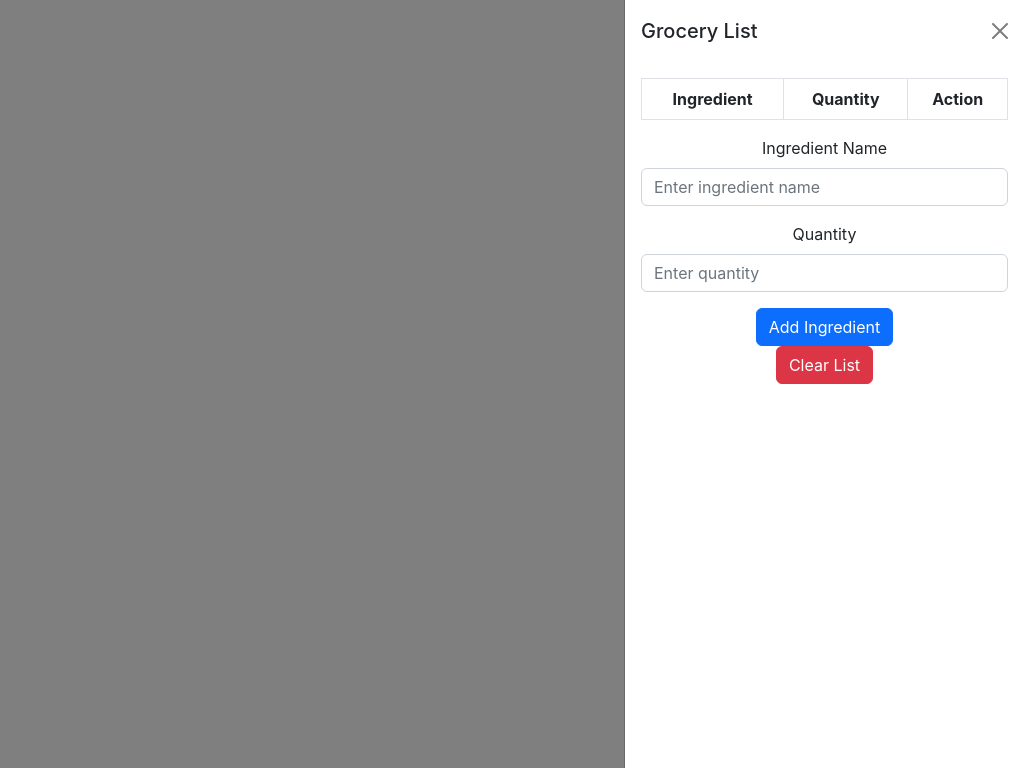
Scenario: handles adding ingredient to the list
Note: enter ingredient details
Type "Tomato" into the field with placeholder "Enter ingredient name". click: [824, 187]
box: [641, 168, 1008, 206]
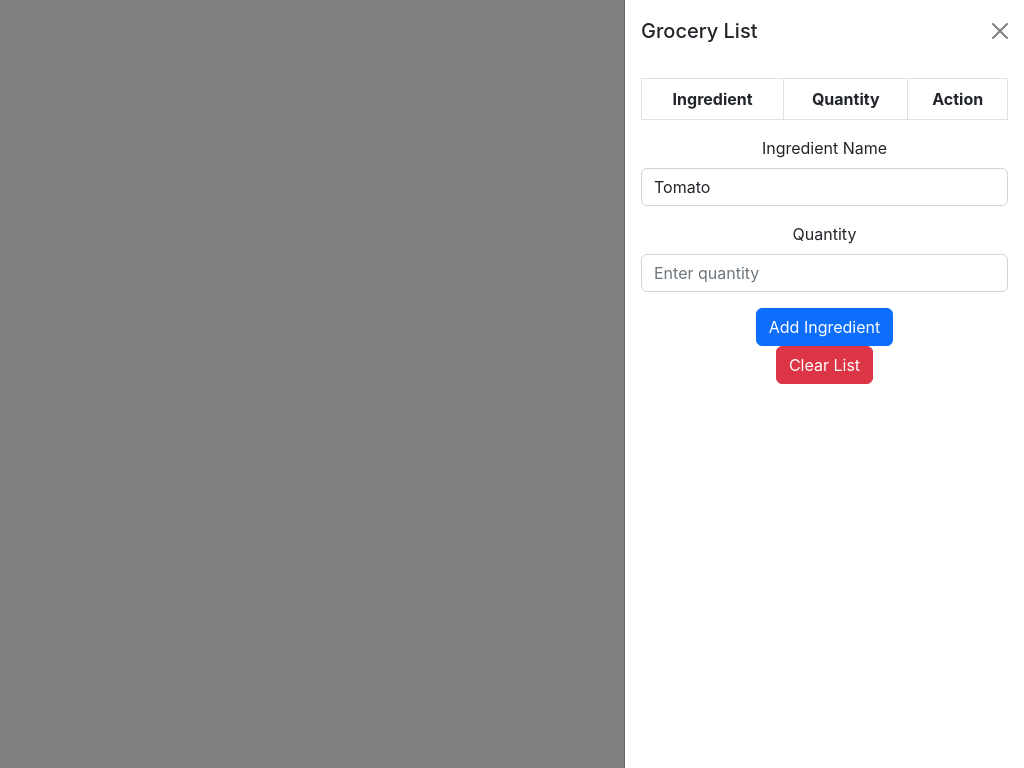
Type "1lb" into the field with placeholder "Enter quantity". click: [824, 273]
box: [641, 254, 1008, 292]
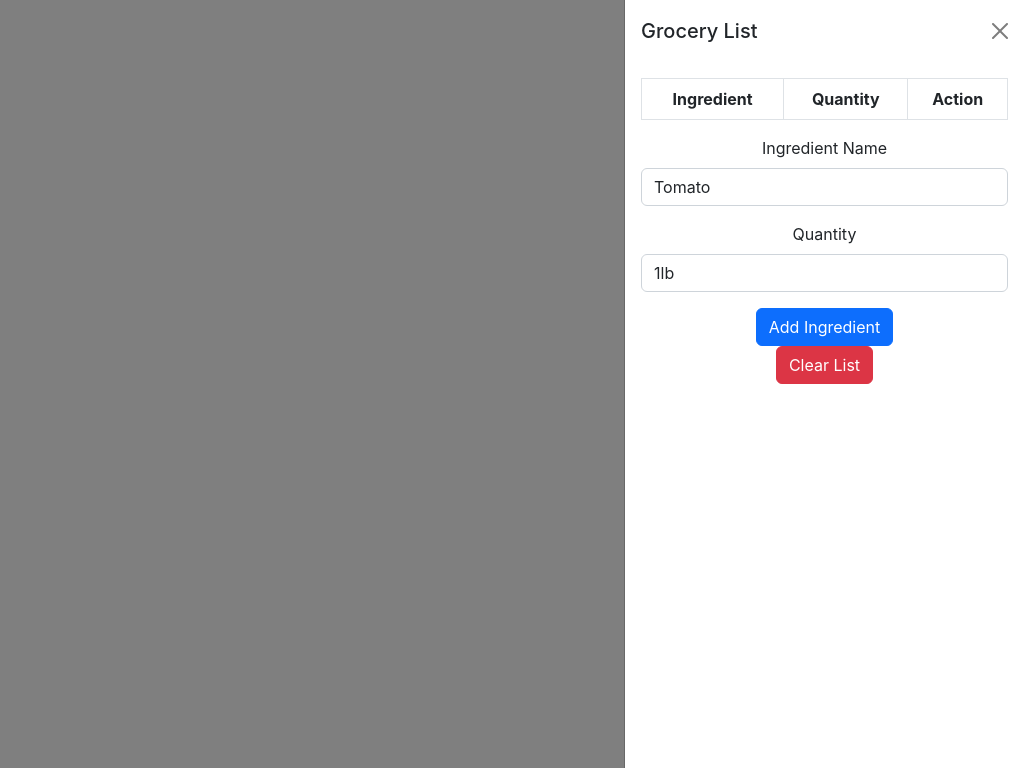
Note: click the Add Ingredient button
Click the button "Add Ingredient". click: [825, 327]
box: [756, 308, 893, 346]
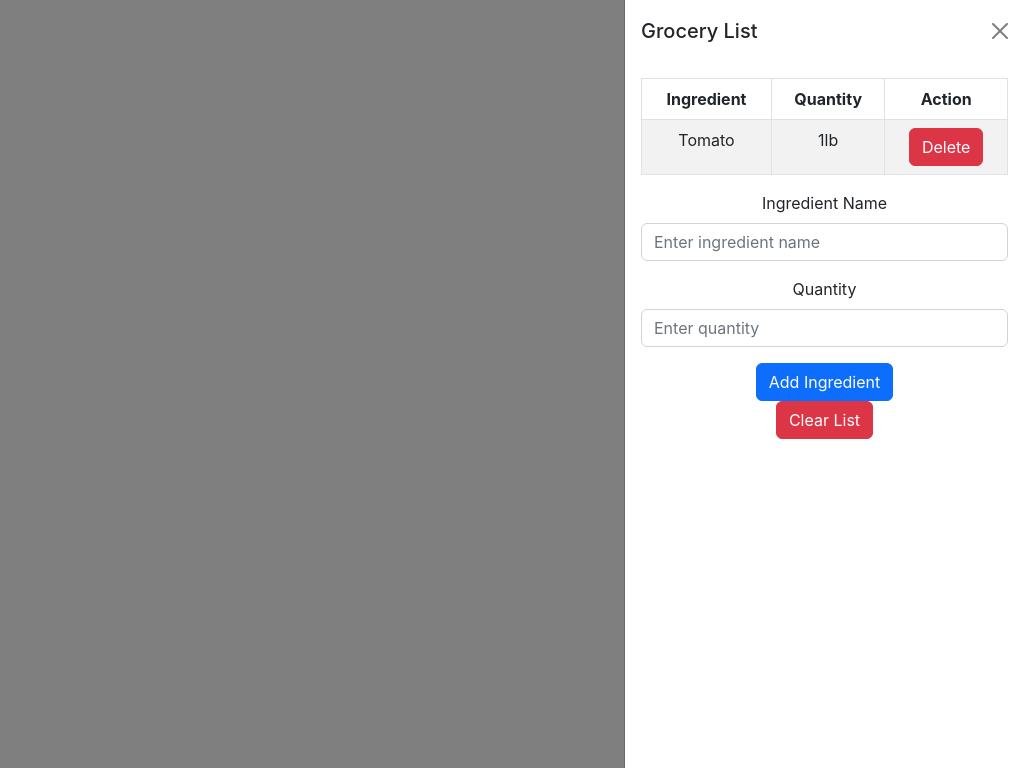
Expected: the text "Tomato" is shown, [642, 120, 772, 174]
Expected: the text "1lb" is shown, [772, 120, 885, 174]
